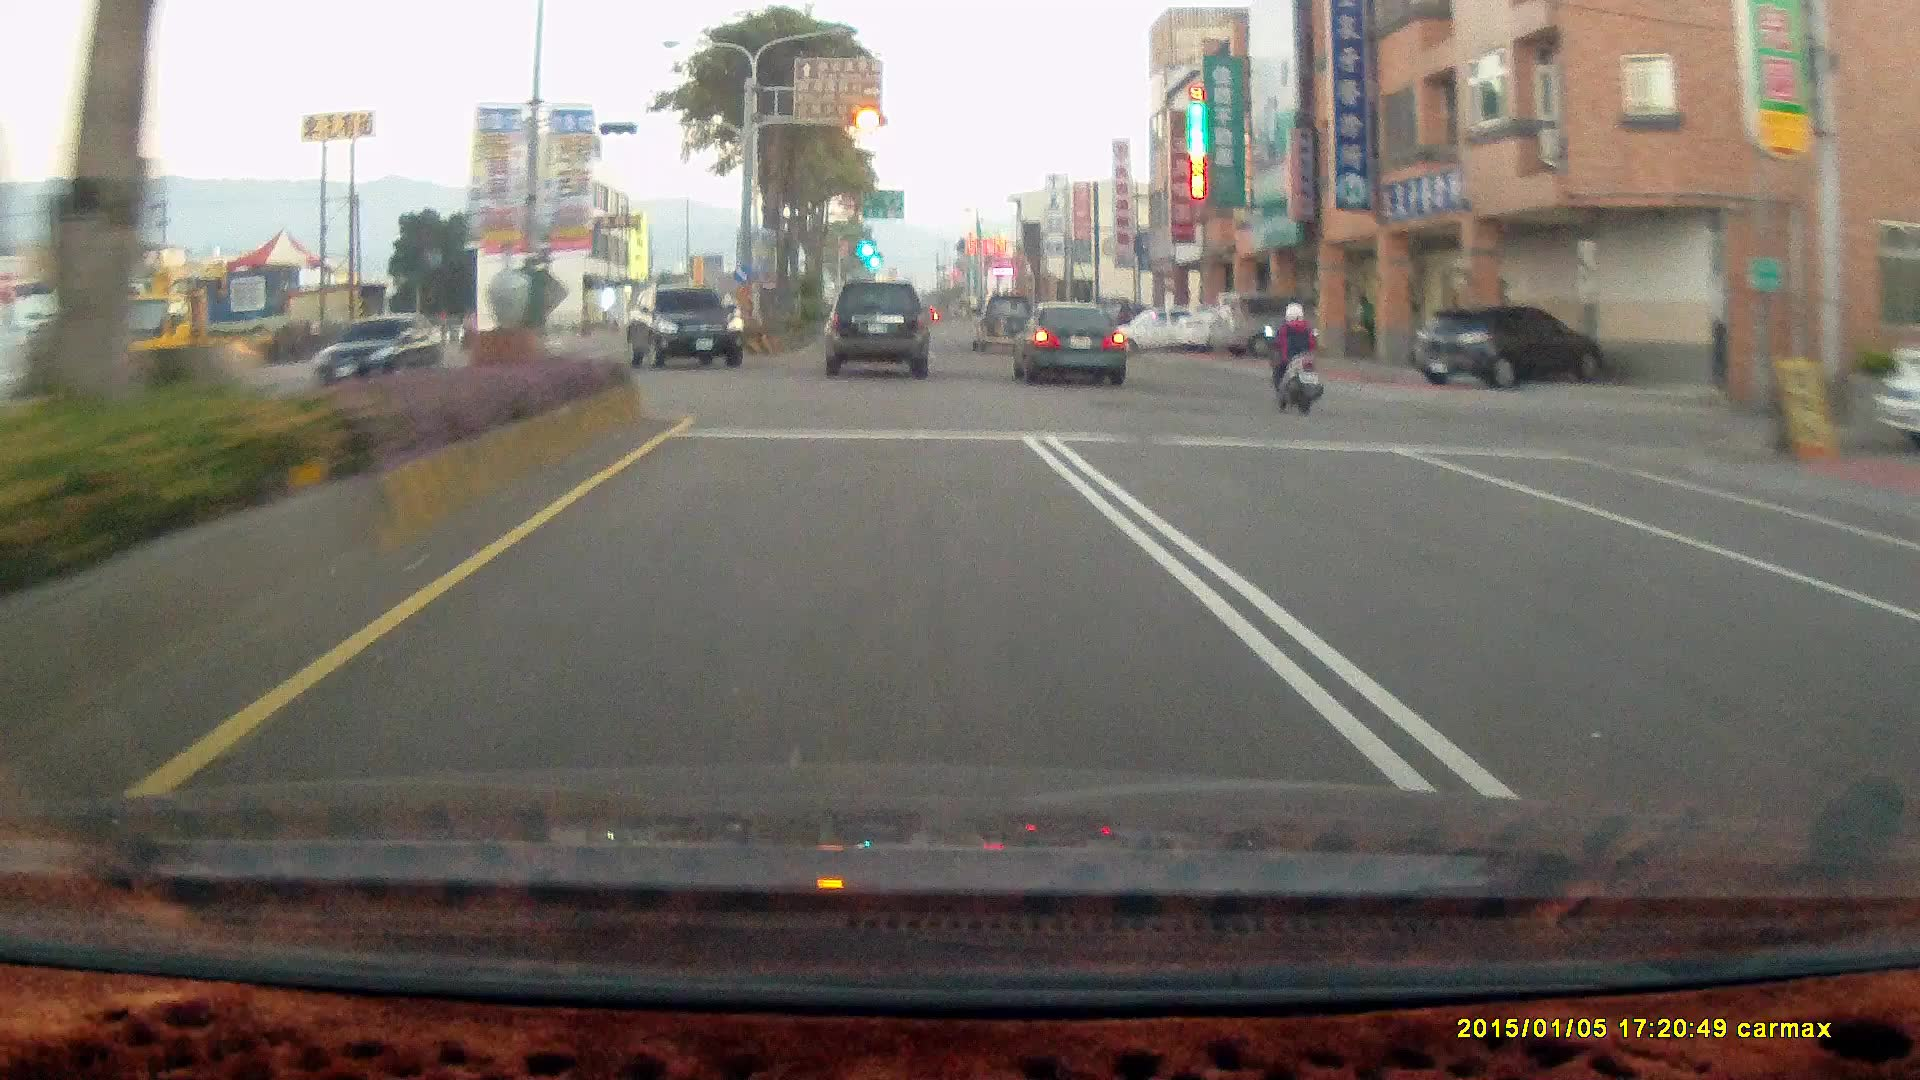pedestrian: (1352, 291, 1377, 357)
rider: (1254, 293, 1336, 424), (1268, 299, 1328, 411)
vehicle: (81, 283, 278, 396), (1411, 300, 1606, 386), (1416, 303, 1614, 387), (823, 281, 931, 378), (823, 280, 930, 377), (311, 309, 442, 388), (1008, 297, 1125, 382), (313, 308, 438, 387), (624, 284, 744, 364), (627, 285, 748, 364), (1010, 302, 1128, 383), (1206, 289, 1338, 357), (1206, 289, 1325, 359), (1115, 300, 1226, 355), (1109, 304, 1220, 353), (969, 289, 1037, 351), (1873, 365, 1920, 439)
